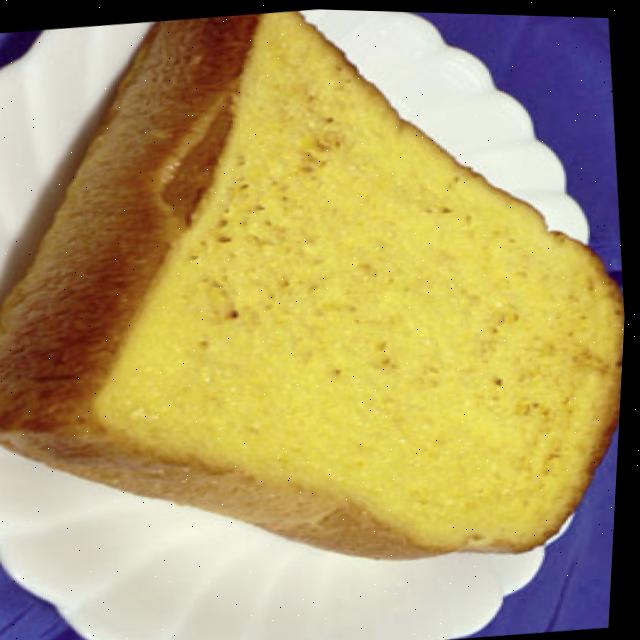面包点心: (0, 0, 640, 622)
